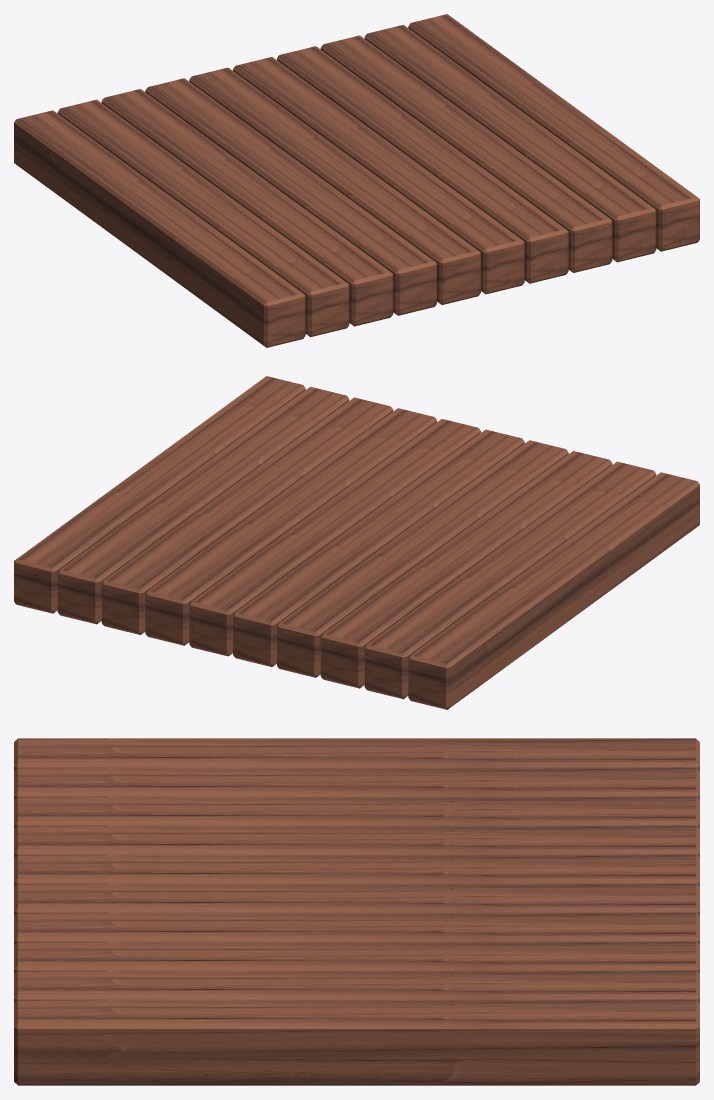
File: Floor_2x2.glb
The picture shows the model from 3 angles, top to bottom: view 1: azimuth 30°, elevation 25°; view 2: azimuth 150°, elevation 25°; view 3: azimuth 270°, elevation 25°; orthographic projection. The views are drawn at different scales.
Visible parts, largest first — view 1: Floor_2x2__立方体, Floor_2x2__立方体.007, Floor_2x2__立方体.001, Floor_2x2__立方体.008, Floor_2x2__立方体.002, Floor_2x2__立方体.006, Floor_2x2__立方体.003, Floor_2x2__立方体.009, Floor_2x2__立方体.005, Floor_2x2__立方体.004; view 2: Floor_2x2__立方体, Floor_2x2__立方体.007, Floor_2x2__立方体.001, Floor_2x2__立方体.008, Floor_2x2__立方体.002, Floor_2x2__立方体.006, Floor_2x2__立方体.003, Floor_2x2__立方体.009, Floor_2x2__立方体.005, Floor_2x2__立方体.004; view 3: Floor_2x2__立方体.009, Floor_2x2__立方体.007, Floor_2x2__立方体.008, Floor_2x2__立方体, Floor_2x2__立方体.001, Floor_2x2__立方体.002, Floor_2x2__立方体.003, Floor_2x2__立方体.004, Floor_2x2__立方体.005, Floor_2x2__立方体.006.
Boxes of the visible parts, <box> form: Floor_2x2__立方体: <box>14,110,305,347</box>; Floor_2x2__立方体.007: <box>320,35,612,272</box>; Floor_2x2__立方体.001: <box>57,99,349,337</box>; Floor_2x2__立方体.008: <box>364,24,656,262</box>; Floor_2x2__立方体.002: <box>101,89,393,326</box>; Floor_2x2__立方体.006: <box>277,46,568,283</box>; Floor_2x2__立方体.003: <box>145,78,436,315</box>; Floor_2x2__立方体.009: <box>408,14,699,251</box>; Floor_2x2__立方体.005: <box>233,57,524,294</box>; Floor_2x2__立方体.004: <box>189,67,480,304</box>; Floor_2x2__立方体: <box>408,472,699,709</box>; Floor_2x2__立方体.007: <box>101,397,393,634</box>; Floor_2x2__立方体.001: <box>364,461,656,699</box>; Floor_2x2__立方体.008: <box>57,386,349,624</box>; Floor_2x2__立方体.002: <box>320,451,612,688</box>; Floor_2x2__立方体.006: <box>145,408,436,645</box>; Floor_2x2__立方体.003: <box>277,440,568,677</box>; Floor_2x2__立方体.009: <box>14,376,305,613</box>; Floor_2x2__立方体.005: <box>189,419,480,656</box>; Floor_2x2__立方体.004: <box>233,429,524,666</box>; Floor_2x2__立方体.009: <box>14,999,699,1085</box>; Floor_2x2__立方体.007: <box>14,941,699,973</box>; Floor_2x2__立方体.008: <box>14,970,699,1002</box>; Floor_2x2__立方体: <box>14,738,699,770</box>; Floor_2x2__立方体.001: <box>14,767,699,799</box>; Floor_2x2__立方体.002: <box>14,796,699,828</box>; Floor_2x2__立方体.003: <box>14,825,699,857</box>; Floor_2x2__立方体.004: <box>14,854,699,886</box>; Floor_2x2__立方体.005: <box>14,883,699,915</box>; Floor_2x2__立方体.006: <box>14,912,699,944</box>.
Size of the model in its own units: 1.99 by 0.2 by 2.
5 materials, 5 textured.
